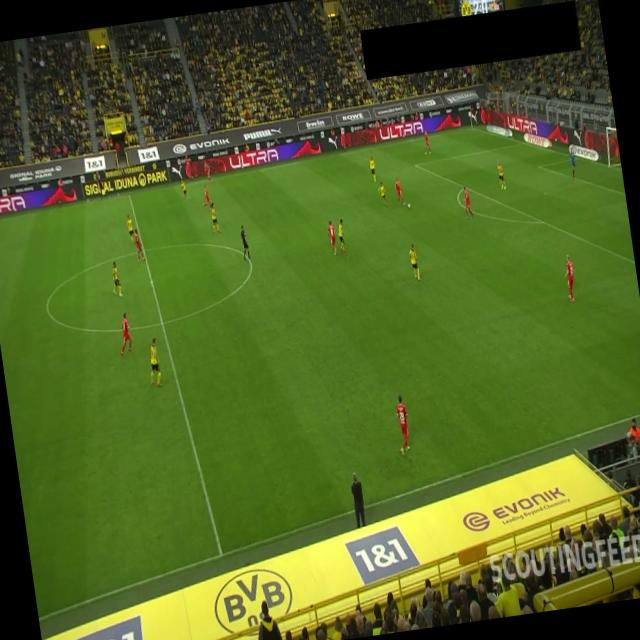ball: (408, 202, 412, 210)
goalkeeper: (568, 147, 578, 179)
player: (392, 393, 413, 457), (114, 312, 136, 358), (144, 337, 164, 387), (562, 254, 579, 302), (109, 260, 123, 296), (408, 243, 421, 280), (326, 219, 338, 256), (461, 187, 474, 220), (336, 218, 348, 253), (209, 202, 222, 234), (133, 228, 145, 262), (125, 213, 136, 243), (394, 176, 405, 206), (496, 159, 506, 191), (376, 181, 388, 207), (368, 154, 378, 183), (200, 184, 212, 208), (203, 160, 214, 184), (422, 130, 432, 156), (180, 178, 190, 201)
referee: (238, 224, 252, 261), (98, 172, 109, 200)
